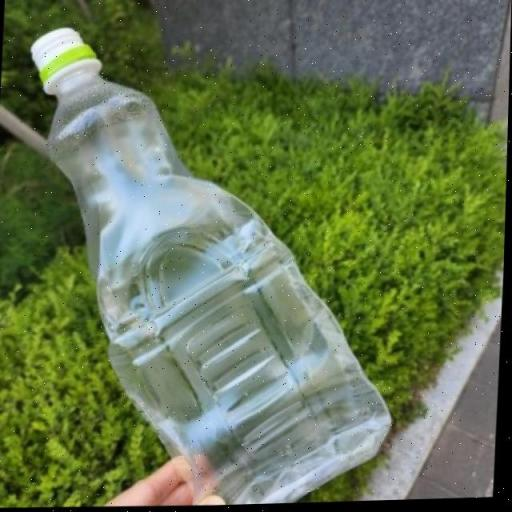plastic: (29, 29, 395, 506)
